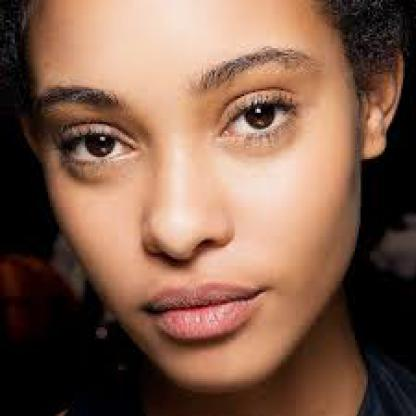darkspot: (40, 267, 93, 321), (106, 185, 129, 210), (193, 300, 204, 350), (71, 234, 97, 254), (326, 77, 350, 98), (164, 288, 176, 326), (161, 203, 176, 228), (65, 339, 75, 359), (157, 167, 169, 177), (152, 306, 158, 321)
